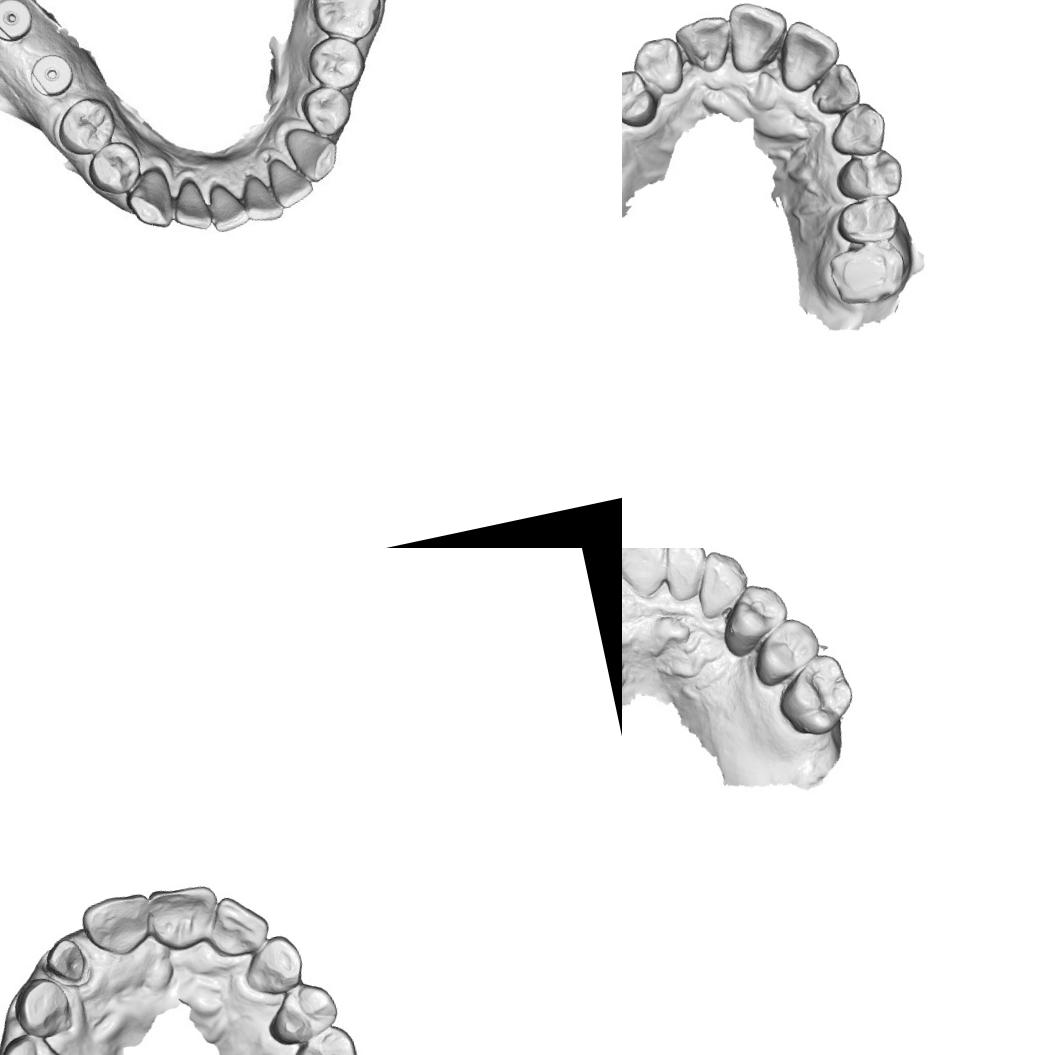canine: (236, 928, 314, 1002), (7, 971, 78, 1046), (689, 548, 755, 622), (824, 99, 891, 163), (628, 33, 688, 101), (282, 119, 340, 187), (124, 170, 178, 235)
crown: (38, 932, 94, 990)
implant: (23, 47, 82, 105), (0, 0, 38, 46)
incisor: (142, 876, 227, 957), (769, 14, 847, 95), (78, 888, 161, 963), (721, 0, 795, 76), (206, 888, 276, 962), (672, 12, 737, 79), (805, 60, 864, 118), (656, 548, 715, 604), (235, 166, 284, 227), (622, 548, 677, 601), (166, 172, 212, 230), (266, 151, 312, 206), (204, 179, 246, 234)
molar: (769, 648, 860, 742), (823, 236, 912, 312), (303, 0, 388, 47)
premolar: (713, 577, 795, 660), (260, 975, 345, 1050), (746, 614, 826, 690), (830, 142, 907, 204), (52, 89, 118, 160), (831, 191, 905, 251), (302, 30, 368, 95), (84, 141, 147, 196), (299, 82, 357, 141), (281, 1021, 364, 1055), (622, 64, 661, 134), (0, 1026, 73, 1055)
